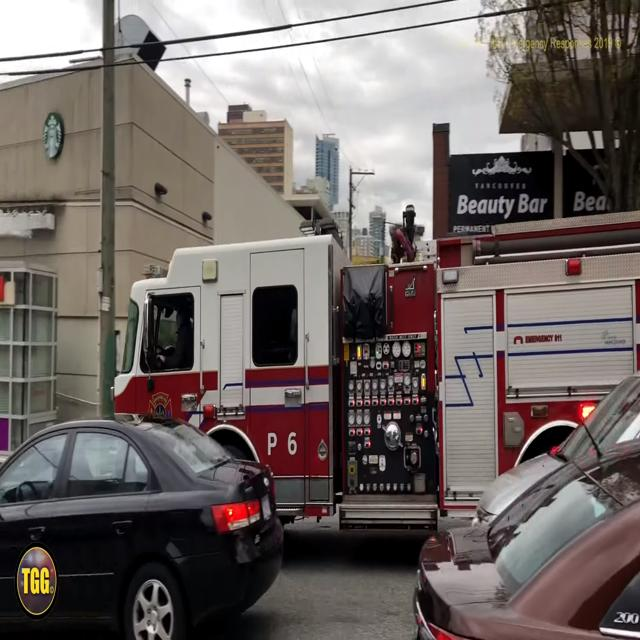emergency-vehicles: (105, 229, 640, 571)
